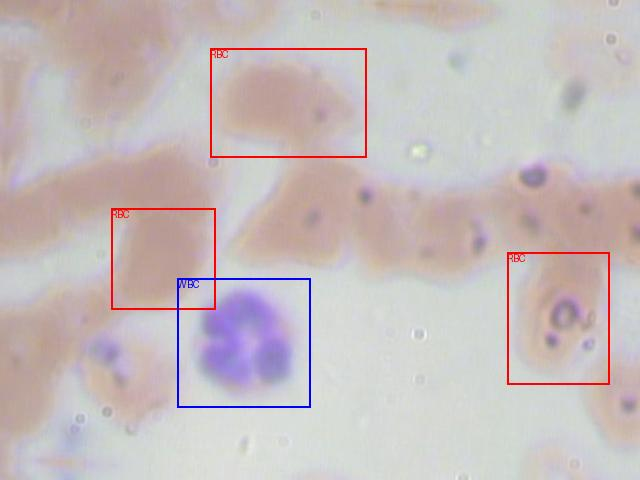RBC: (210, 48, 366, 157), (507, 252, 609, 384), (111, 208, 215, 309)
WBC: (177, 278, 310, 407)
